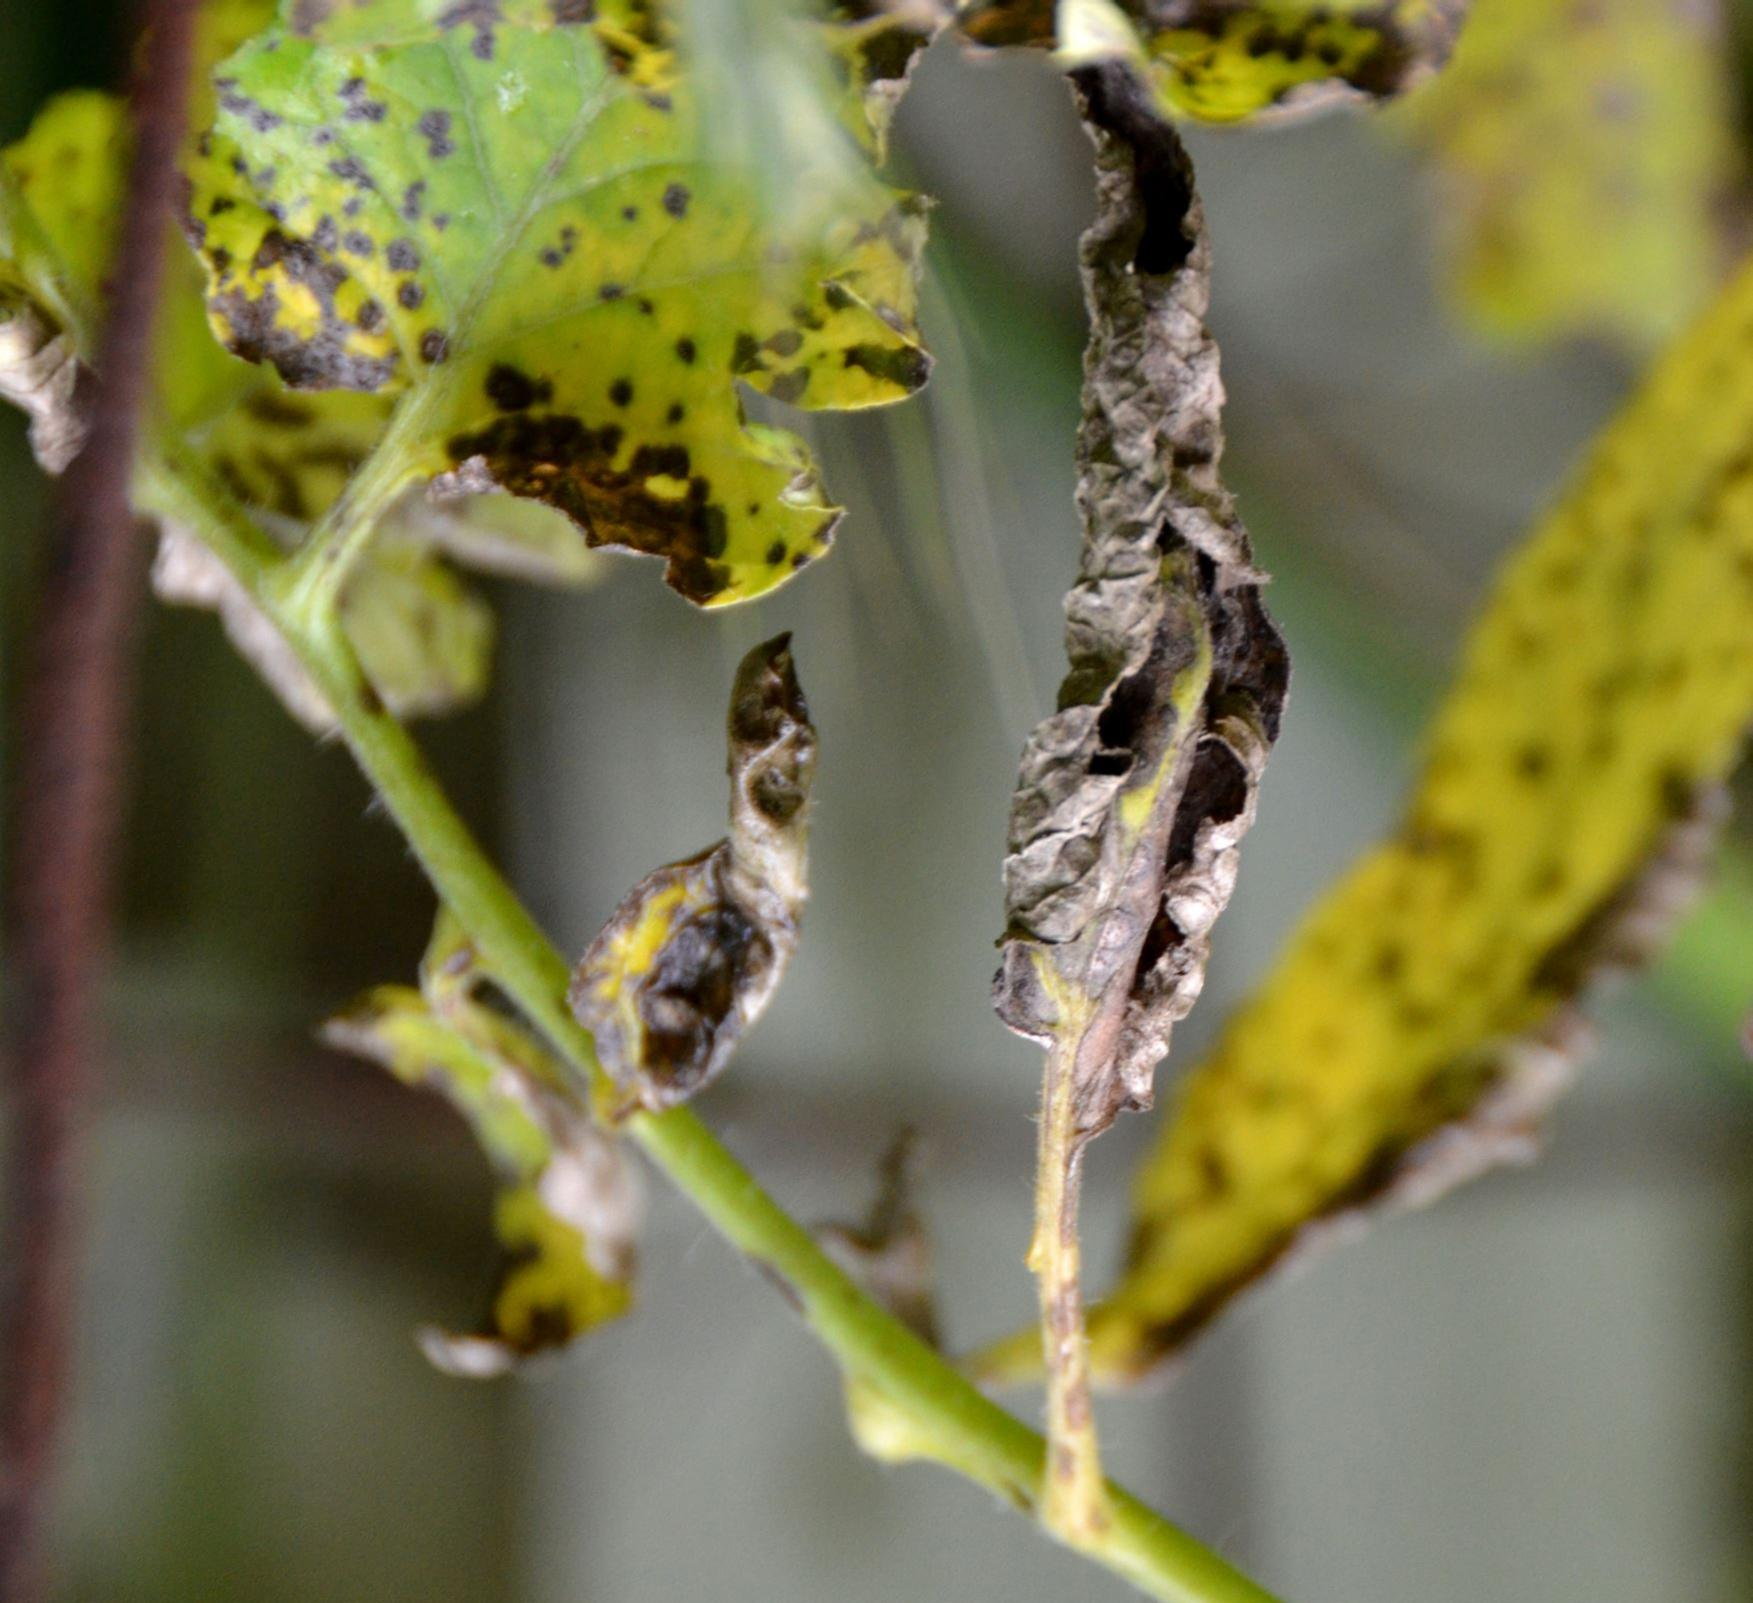Tomato Septoria leaf spot: (1116, 217, 1753, 1377), (189, 0, 1086, 595)
